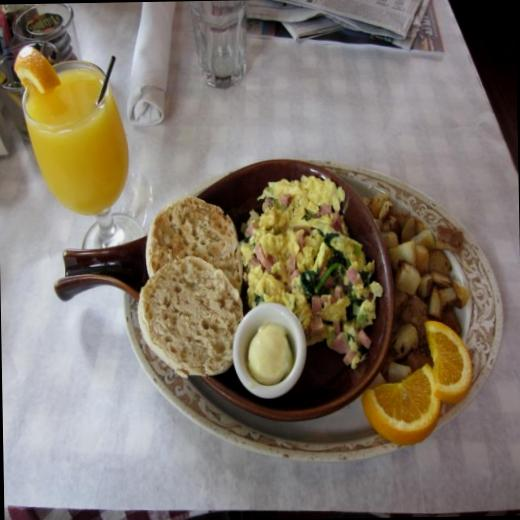Grape: (360, 360, 444, 445), (428, 326, 475, 405)
